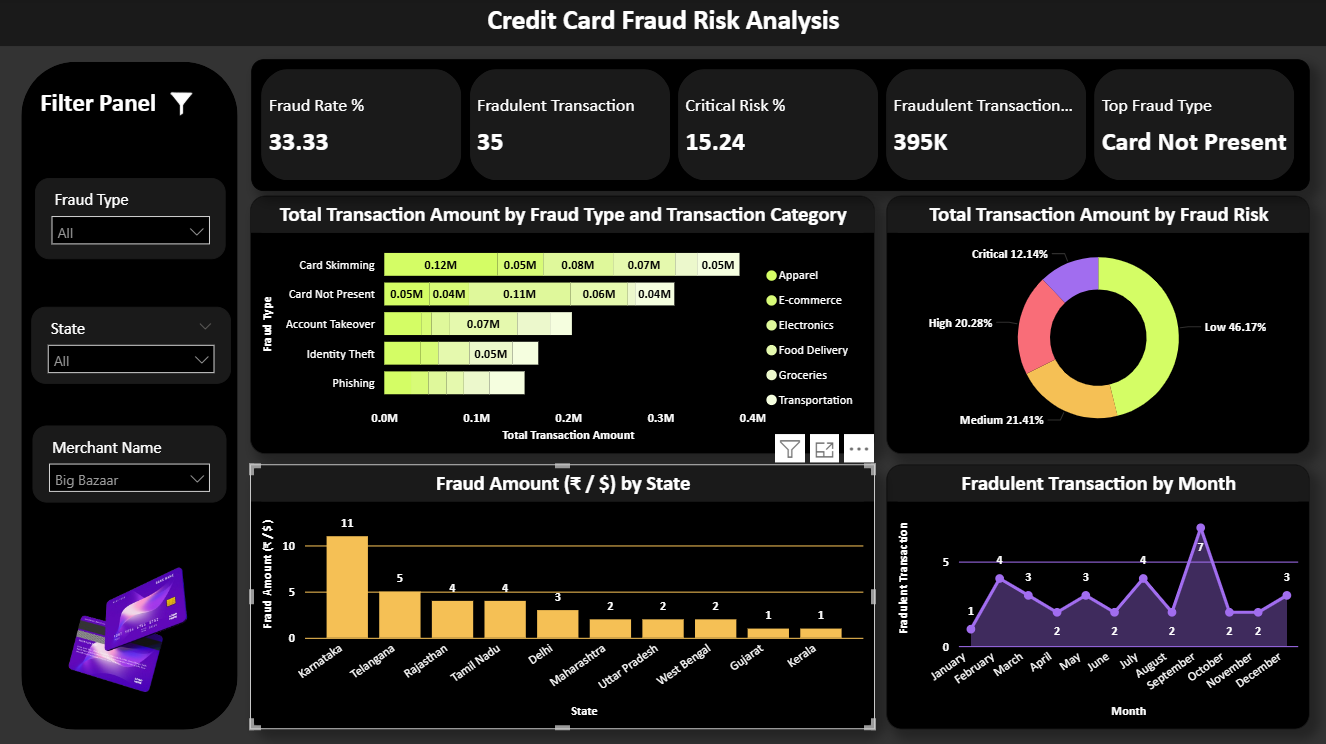

This screenshot's page, from the dashboard's own definition file:
{"tool":"powerbi","page":{"name":"Page 1","canvas":[1280,720],"ordinal":0},"visuals":[{"type":"textbox","box":[0,0,1280.6,46.3],"z":0},{"type":"shape","box":[20.9,61.2,209,644.8],"z":1000},{"type":"textbox","box":[34.3,80.6,141.8,46.3],"z":2000},{"type":"image","box":[144.8,80.6,61.2,43.3],"z":3000},{"type":"barChart","fields":{"Y":["Credit Card Fraud Risk Analysis.Total Transaction Amount"],"Category":["Credit Card Fraud Risk Analysis.Fraud Type"],"Series":["Credit Card Fraud Risk Analysis.Transaction Category"]},"box":[241.8,191,603,249.3],"z":4000},{"type":"donutChart","fields":{"Y":["Credit Card Fraud Risk Analysis.Total Transaction Amount"],"Category":["Credit Card Fraud Risk Analysis.Fraud Risk"]},"box":[855.2,191,409,249.3],"z":5000},{"type":"columnChart","fields":{"Category":["Credit Card Fraud Risk Analysis.State"],"Y":["Credit Card Fraud Risk Analysis.Fradulent Transaction"]},"box":[241.4,450,602.9,255.7],"z":6000},{"type":"lineChart","fields":{"Y":["Credit Card Fraud Risk Analysis.Fradulent Transaction"],"Category":["Credit Card Fraud Risk Analysis.Transaction Date.Variation.Date Hierarchy.Month"]},"box":[855.7,450,408.6,255.7],"z":7000},{"type":"slicer","fields":{"Values":["Credit Card Fraud Risk Analysis.Fraud Type"]},"box":[34.3,174.3,184.3,78.6],"z":8000},{"type":"slicer","fields":{"Values":["Credit Card Fraud Risk Analysis.State"]},"box":[30,298.6,192.9,74.3],"z":9000},{"type":"slicer","fields":{"Values":["Credit Card Fraud Risk Analysis.Merchant Name"]},"box":[31.4,412.9,187.1,74.3],"z":10000},{"type":"image","box":[0,530,191.4,162.9],"z":11000},{"type":"cardVisual","fields":{"Data":["Credit Card Fraud Risk Analysis.Fraud Rate %","Credit Card Fraud Risk Analysis.Fradulent Transaction","Credit Card Fraud Risk Analysis.Critical Risk Transaction","Credit Card Fraud Risk Analysis.Fraudulent Transaction Amount","Credit Card Fraud Risk Analysis.Top Fraud Type"]},"box":[242.9,58.6,1021.4,127.1],"z":12000}]}

Visuals, with their boxes in screenshot pixels (x1, y1, x2, y2), scaled from the page's 1280x720 canvas onto the 1326x744 screenshot:
textbox: <region>0, 0, 1325, 48</region>
shape: <region>22, 63, 238, 730</region>
textbox: <region>36, 83, 182, 131</region>
image: <region>150, 83, 213, 128</region>
barChart - Credit Card Fraud Risk Analysis.Total Transaction Amount x Credit Card Fraud Risk Analysis.Fraud Type: <region>250, 197, 875, 455</region>
donutChart - Credit Card Fraud Risk Analysis.Total Transaction Amount x Credit Card Fraud Risk Analysis.Fraud Risk: <region>886, 197, 1310, 455</region>
columnChart - Credit Card Fraud Risk Analysis.State x Credit Card Fraud Risk Analysis.Fradulent Transaction: <region>250, 465, 875, 729</region>
lineChart - Credit Card Fraud Risk Analysis.Fradulent Transaction x Credit Card Fraud Risk Analysis.Transaction Date.Variation.Date Hierarchy.Month: <region>886, 465, 1310, 729</region>
slicer - Credit Card Fraud Risk Analysis.Fraud Type: <region>36, 180, 226, 261</region>
slicer - Credit Card Fraud Risk Analysis.State: <region>31, 309, 231, 385</region>
slicer - Credit Card Fraud Risk Analysis.Merchant Name: <region>33, 427, 226, 503</region>
image: <region>0, 548, 198, 716</region>
cardVisual - Credit Card Fraud Risk Analysis.Fraud Rate % x Credit Card Fraud Risk Analysis.Fradulent Transaction: <region>252, 61, 1310, 192</region>
